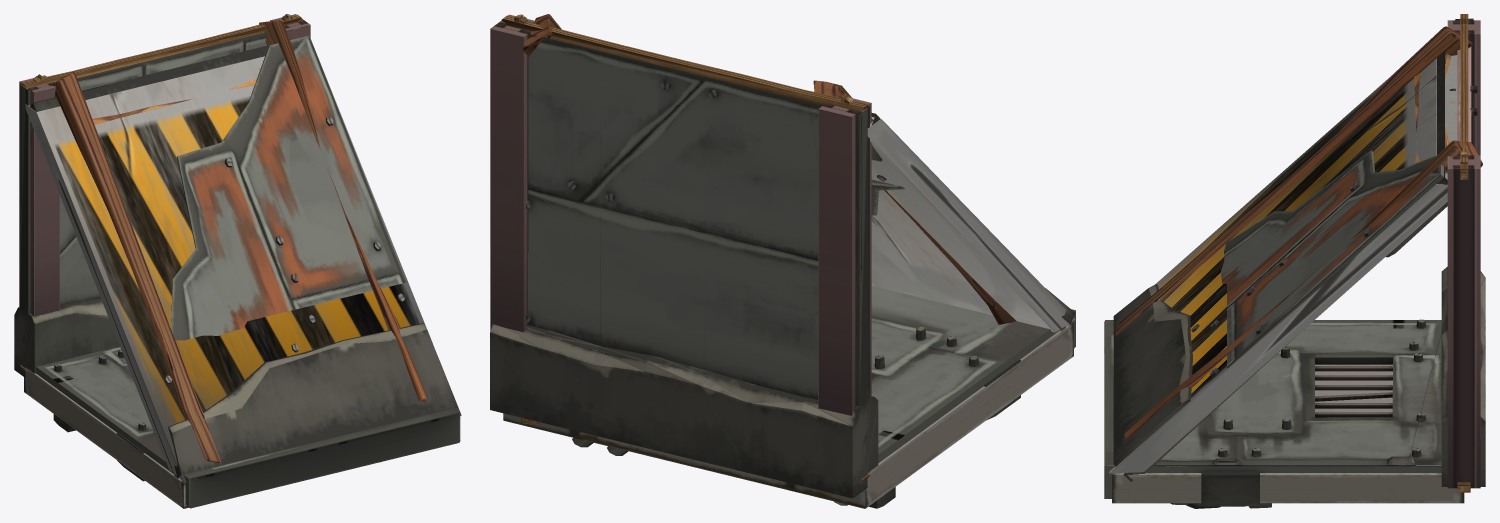
The model's file is build.glb.
3 views of the same model, side by side, from view 1: azimuth 30°, elevation 25°; view 2: azimuth 150°, elevation 25°; view 3: azimuth 270°, elevation 25° (orthographic). The views are drawn at different scales.
Visible parts, largest first — view 1: metal_ramp, stone_ramp, metal_floor, metal_wall, wood_ramp, stone_wall, stone_floor, wood_wall; view 2: metal_wall, stone_wall, stone_ramp, metal_floor, stone_floor, wood_wall, wood_ramp, metal_ramp; view 3: metal_floor, metal_ramp, stone_ramp, stone_wall, stone_floor, wood_ramp, metal_wall, wood_wall.
Boxes of the visible parts, box(x1,y1,x2,y2) form: metal_ramp: box(29, 35, 457, 478); stone_ramp: box(25, 55, 461, 482); metal_floor: box(36, 346, 459, 508); metal_wall: box(14, 21, 304, 377); wood_ramp: box(52, 20, 427, 462); stone_wall: box(19, 14, 310, 316); stone_floor: box(24, 367, 460, 508); wood_wall: box(20, 14, 304, 371); metal_wall: box(490, 24, 878, 498); stone_wall: box(490, 14, 871, 415); stone_ramp: box(867, 117, 1075, 332); metal_floor: box(572, 286, 1075, 508); stone_floor: box(503, 322, 1073, 508); wood_wall: box(498, 14, 870, 482); wood_ramp: box(522, 14, 1016, 324); metal_ramp: box(871, 113, 1074, 331); metal_floor: box(1104, 319, 1441, 508); metal_ramp: box(1113, 51, 1450, 481); stone_ramp: box(1109, 55, 1457, 473); stone_wall: box(1447, 20, 1480, 488); stone_floor: box(1112, 364, 1464, 503); wood_ramp: box(1114, 26, 1482, 439); metal_wall: box(1441, 18, 1485, 486); wood_wall: box(1457, 14, 1470, 492).
Bounding box in the file's own units: 2.04 × 2.34 × 2.16.
Materials: 3 (3 with a texture image).
